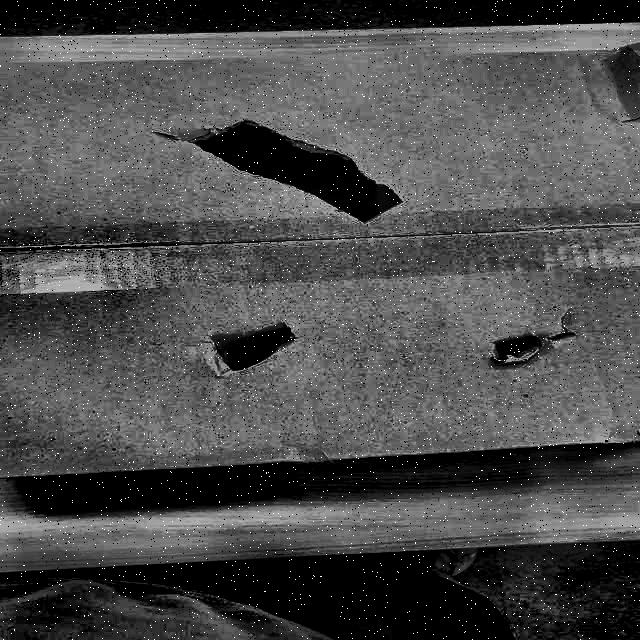box: (0, 36, 639, 490)
hole: (159, 108, 409, 226), (196, 319, 312, 361), (478, 322, 588, 360)
